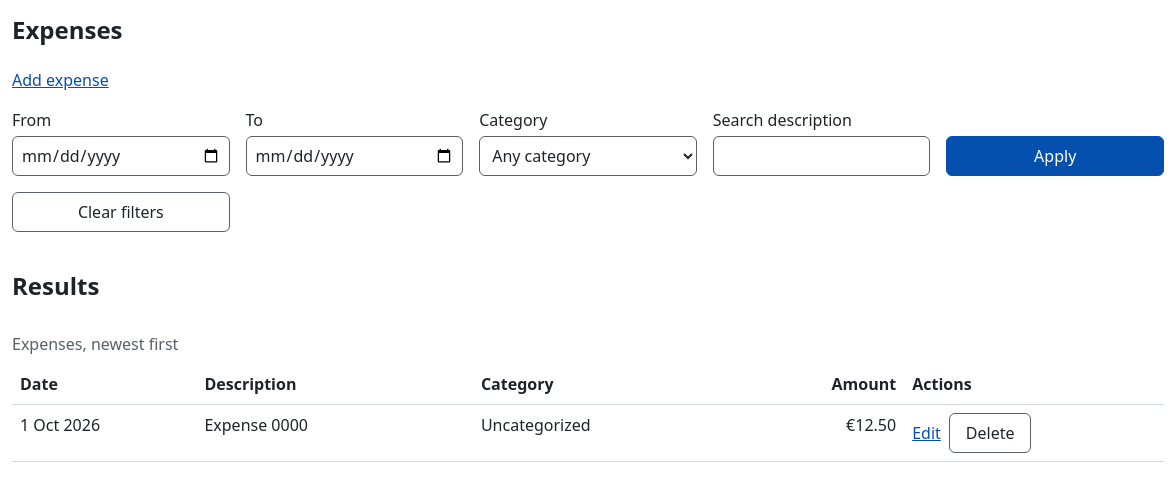
Test: ExpensesView: empty and failed states › only empties typed, unapplied fields, without a search, when no filter is applied
The width and height of the screenshot is (1176, 479).
In the search field with id "filter-q": [822, 156] box [713,136,930,176], type "tea"
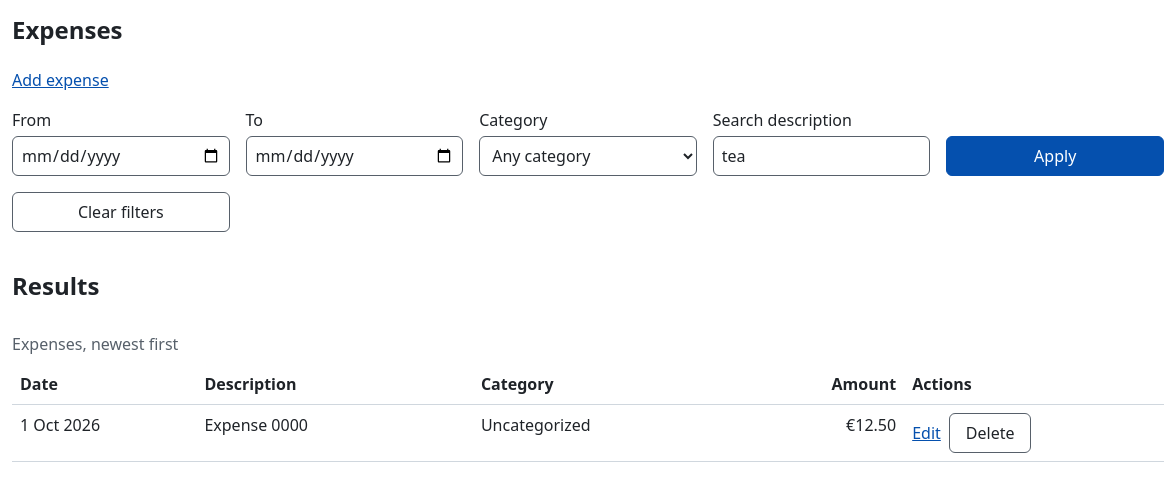
Click the button "Clear filters": [121, 212] box [12,192,230,232]
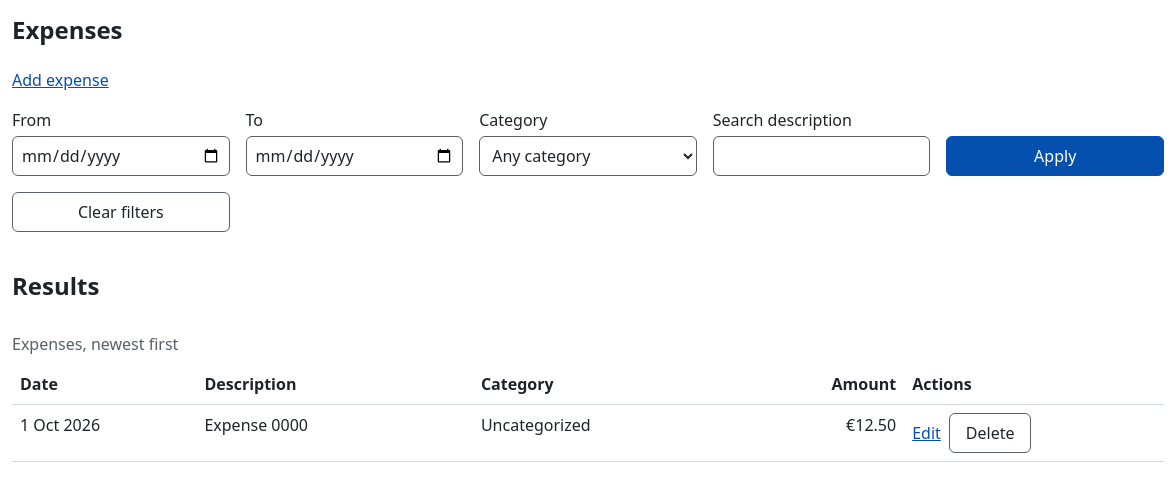
Expected: the search field with id "filter-q" is empty, [713,136,930,176]
